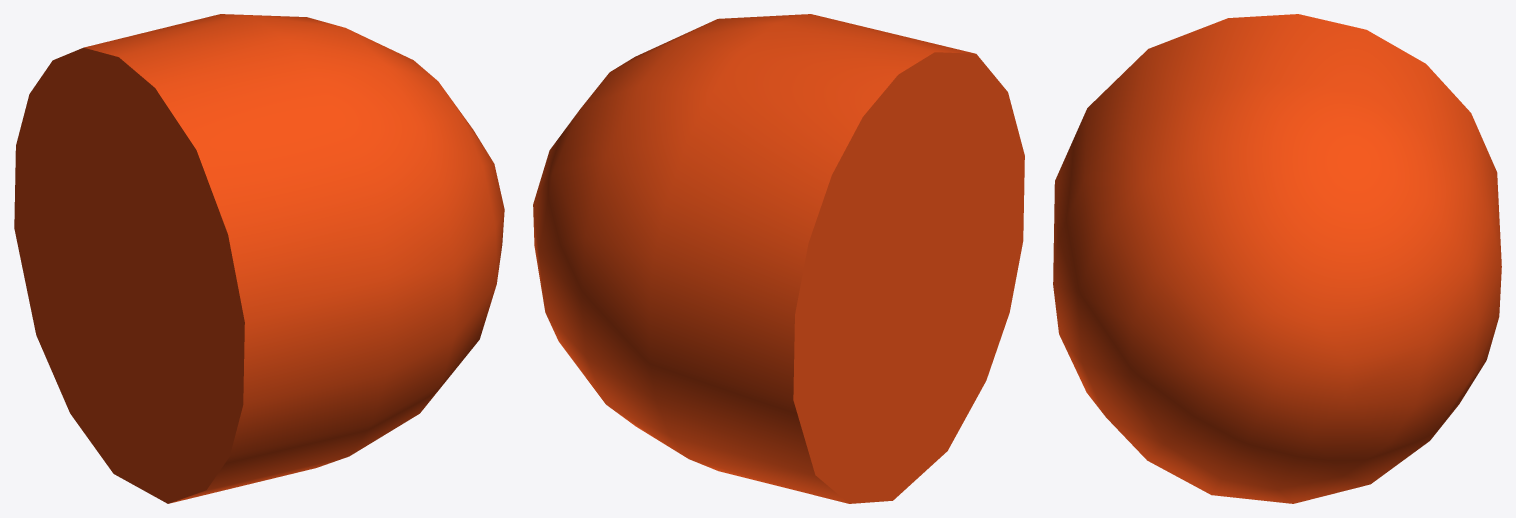
Rendered from bala_ardente.obj.
3 renders of one model, left to right at view 1: azimuth 30°, elevation 25°; view 2: azimuth 150°, elevation 25°; view 3: azimuth 270°, elevation 25°, orthographic. The views are drawn at different scales.
Bounding box in the file's own units: 0.0392 × 0.0447 × 0.0448.
